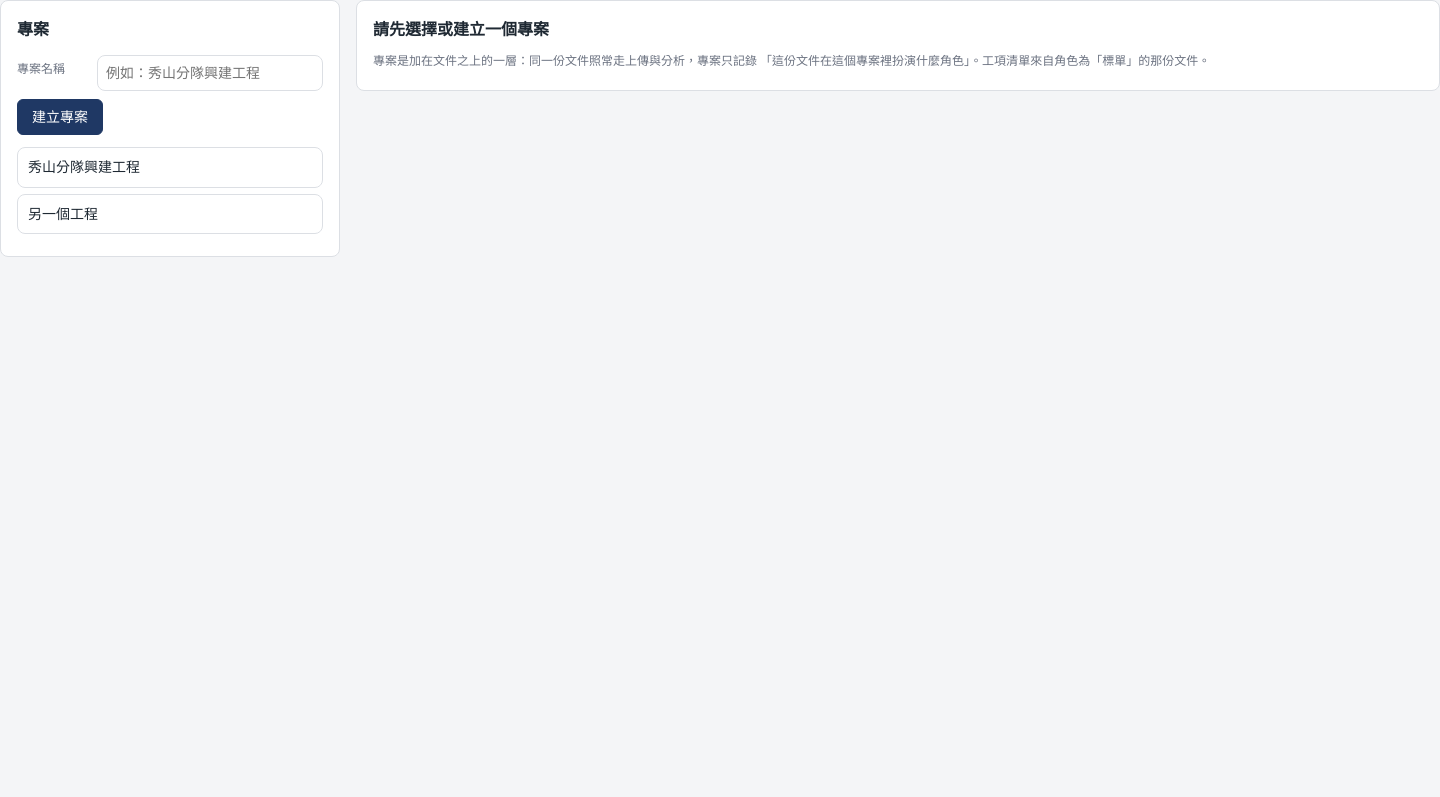
Test: ProjectWorkItemsPage › 展開後看得到工項列與統計，再收合又藏起來
Click the list item "秀山分隊興建工程": (170, 168) [17,147,323,188]
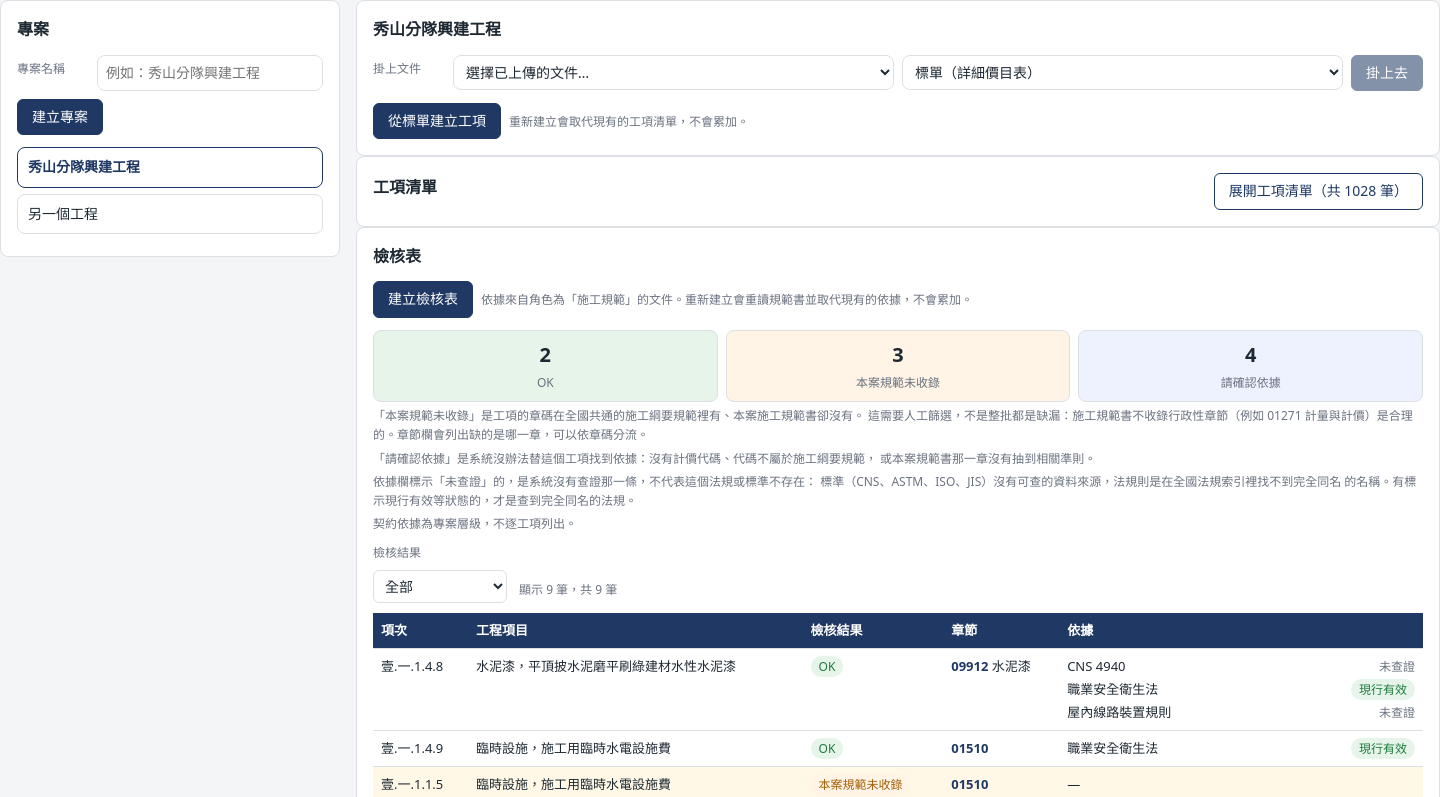
Click the button "展開工項清單（共 1028 筆）": (1318, 192) [1214,173,1423,210]
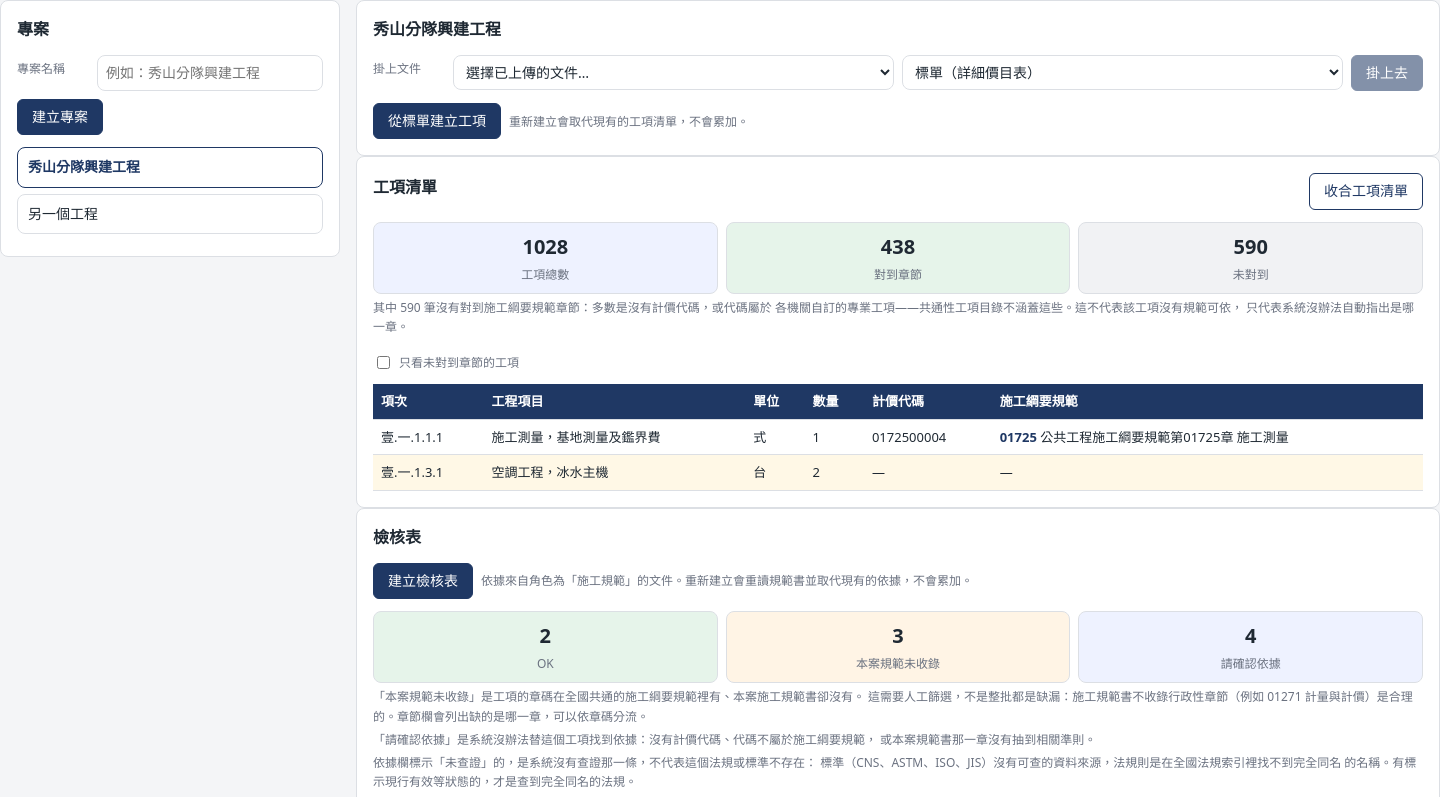
Expected: the text "壹.一.1.1.1" is shown, [373,419,484,455]
Expected: the text "壹.一.1.3.1" is shown, [373,455,484,491]
Expected: the text "438" is shown, [881,233,915,260]
Click the button "收合工項清單": (1366, 192) [1309,173,1423,210]
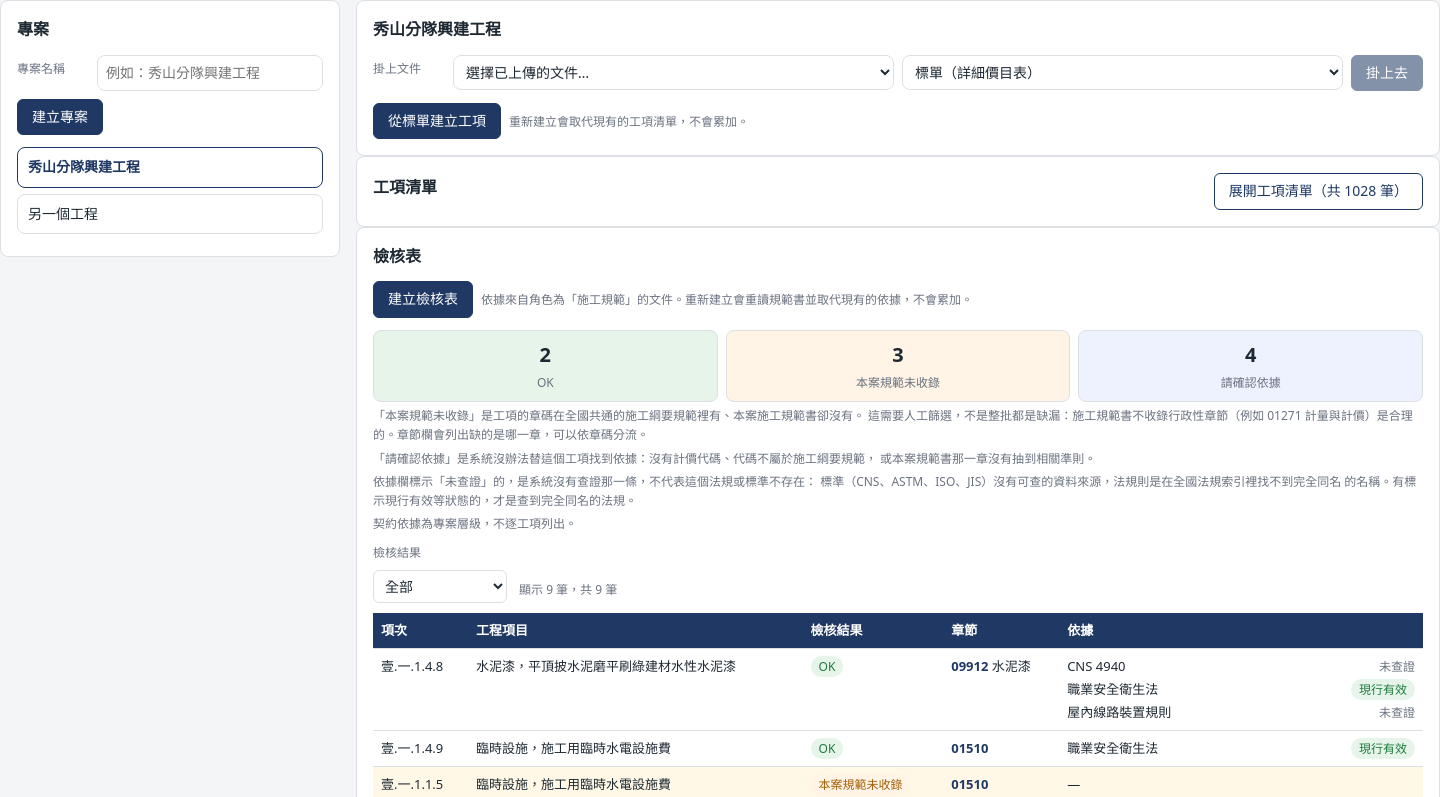
Expected: the text "壹.一.1.1.1" is gone
Expected: the text "438" is gone
Expected: the button "展開工項清單（共 1028 筆）" is collapsed, [1214,173,1423,210]
